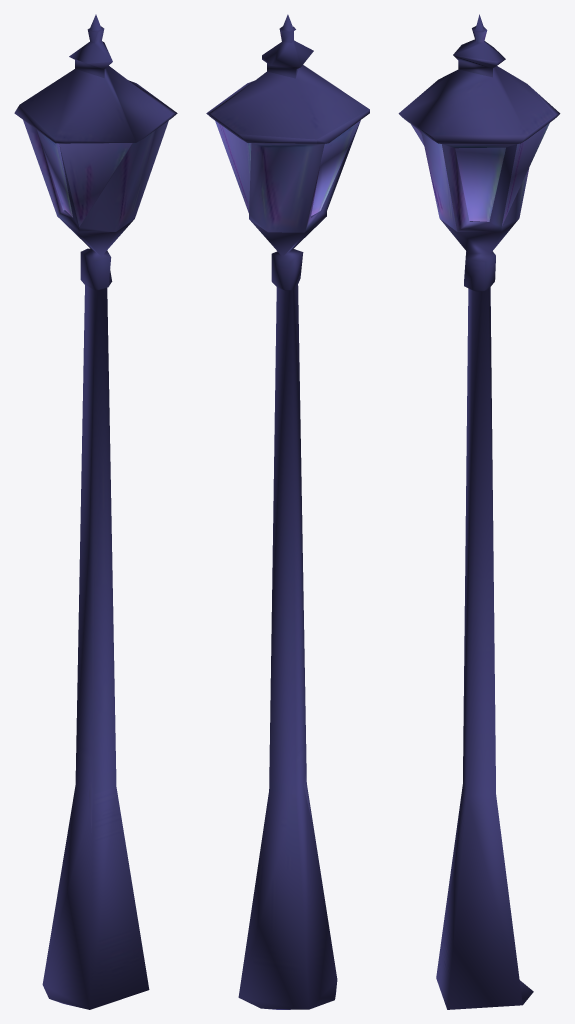
The model's file is model.progressive.glb.
The picture shows the model from 3 angles, left to right: view 1: azimuth 30°, elevation 25°; view 2: azimuth 150°, elevation 25°; view 3: azimuth 270°, elevation 25°; orthographic projection.
Visible parts, largest first — view 1: texture_pbr_20250901; view 2: texture_pbr_20250901; view 3: texture_pbr_20250901.
Part boxes in pixels (bbox=[...]): texture_pbr_20250901: bbox=[14, 14, 177, 1009]; texture_pbr_20250901: bbox=[206, 14, 369, 1009]; texture_pbr_20250901: bbox=[398, 14, 560, 1009].
Bounding box in the file's own units: 0.2499 × 1.9 × 0.2852.
1 material, 1 textured.
